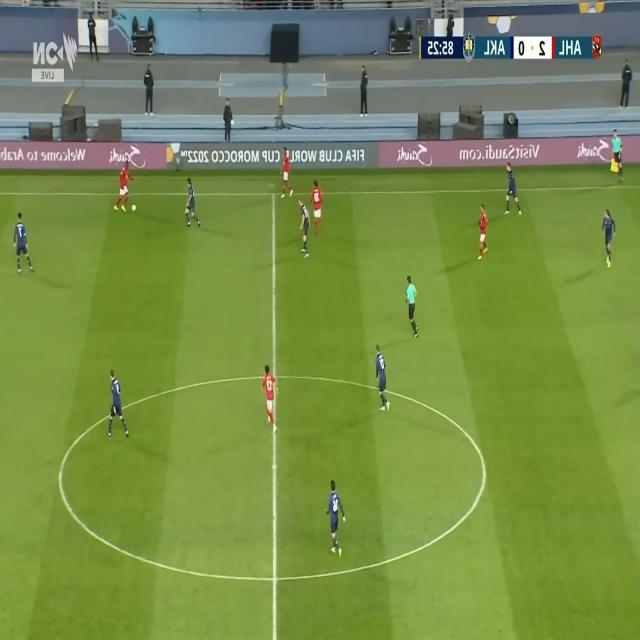Ball: (131, 201, 136, 215)
Player: (326, 477, 346, 562), (12, 210, 34, 276), (107, 369, 128, 438), (260, 364, 280, 433), (373, 343, 390, 414), (114, 162, 136, 211), (504, 162, 522, 216), (601, 208, 615, 271), (475, 202, 489, 260), (278, 145, 292, 200), (185, 176, 200, 227), (298, 197, 310, 260), (310, 178, 322, 236)
Ref: (403, 275, 419, 340), (610, 130, 624, 184)
